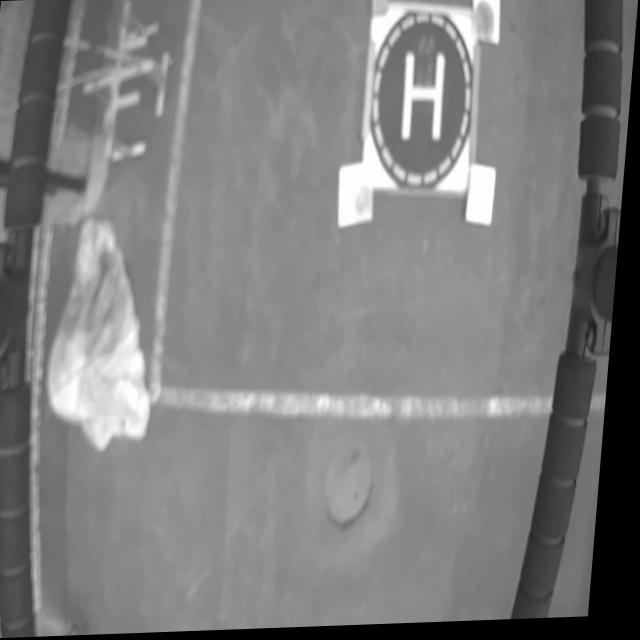Helipad: (402, 52, 447, 145)
